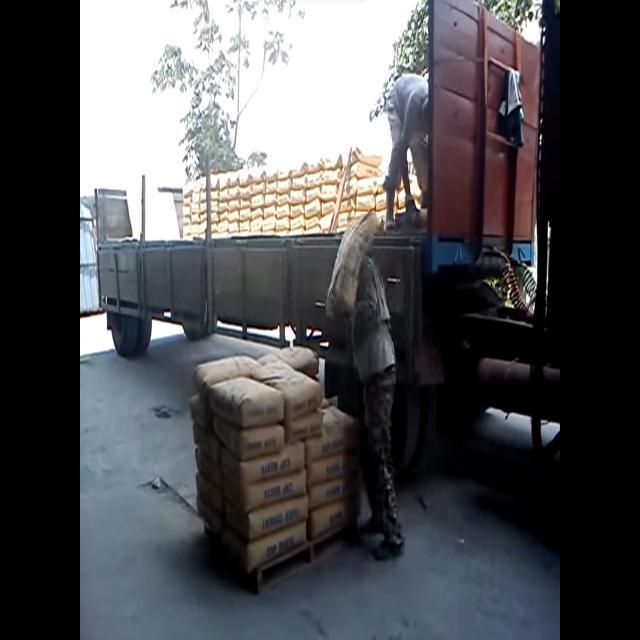gunny_bag: (326, 212, 379, 317), (221, 521, 306, 575), (251, 359, 323, 421), (225, 494, 308, 541), (209, 377, 284, 428), (220, 441, 305, 484), (213, 415, 284, 460), (306, 406, 360, 465), (194, 355, 260, 397), (307, 452, 359, 486), (307, 500, 350, 539), (284, 408, 323, 443), (195, 446, 222, 488), (321, 184, 337, 200), (265, 193, 276, 212), (291, 203, 304, 217), (228, 199, 239, 211)
